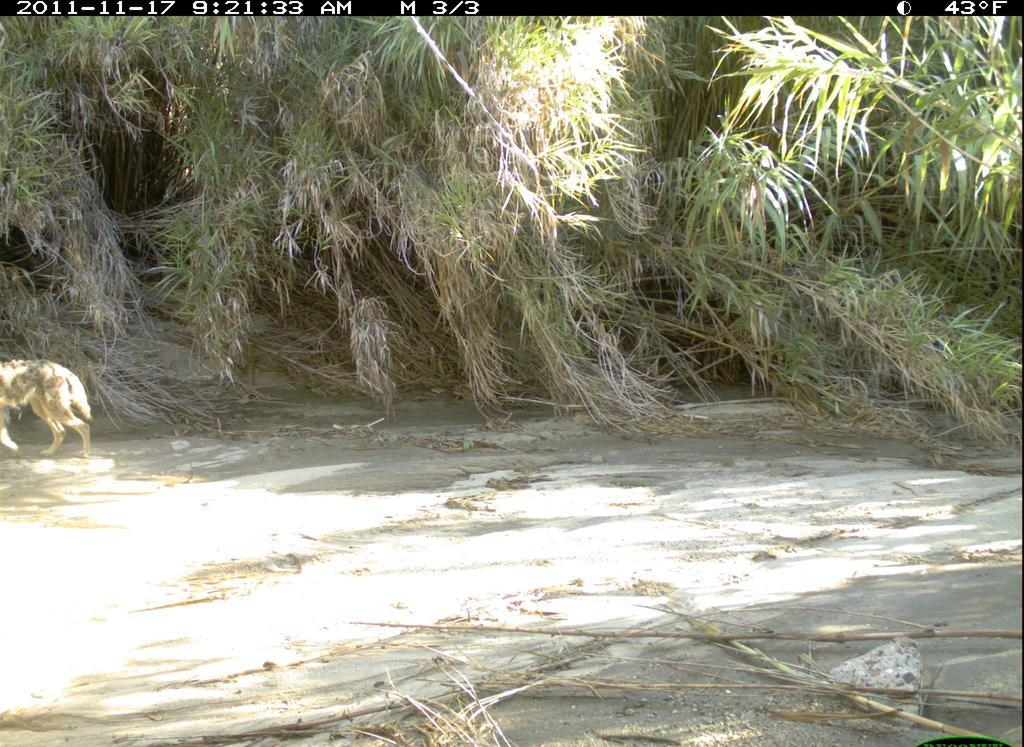coyote: (4, 351, 113, 465)
